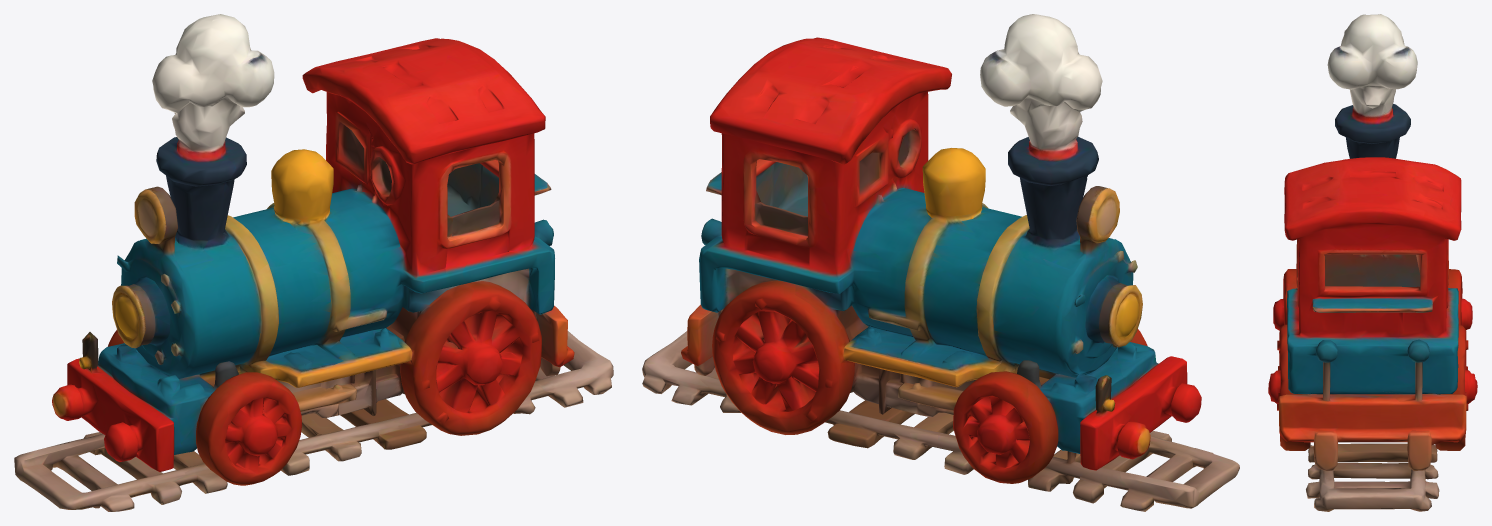
File: locomotive.glb
The picture shows the model from 3 angles, left to right: view 1: azimuth 30°, elevation 25°; view 2: azimuth 150°, elevation 25°; view 3: azimuth 270°, elevation 25°; orthographic projection. The views are drawn at different scales.
Parts seen in each view (by area): view 1: tripo_node_7a837872-e055-422a-9455-32e68f4e0eb6; view 2: tripo_node_7a837872-e055-422a-9455-32e68f4e0eb6; view 3: tripo_node_7a837872-e055-422a-9455-32e68f4e0eb6.
Part boxes in pixels (left/top/right/bottom): tripo_node_7a837872-e055-422a-9455-32e68f4e0eb6: left=14, top=14, right=613, bottom=511; tripo_node_7a837872-e055-422a-9455-32e68f4e0eb6: left=642, top=14, right=1239, bottom=511; tripo_node_7a837872-e055-422a-9455-32e68f4e0eb6: left=1268, top=14, right=1477, bottom=511.
Size of the model in its own units: 1 by 0.761 by 0.4087.
Materials: 1 (1 with a texture image).
